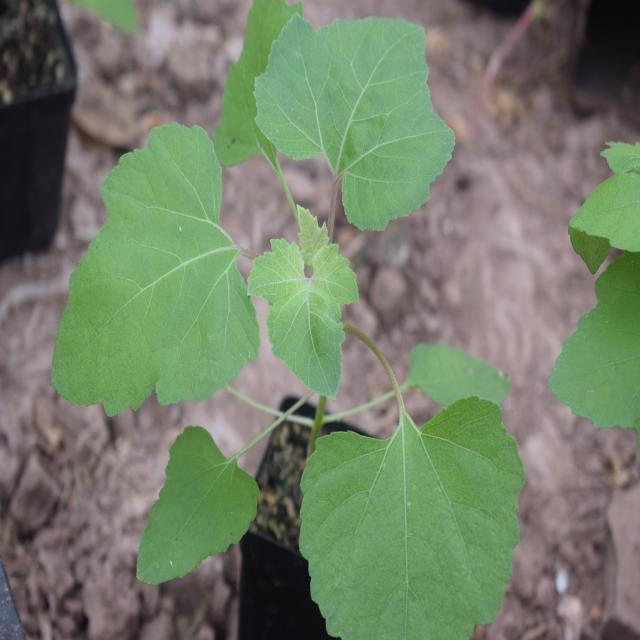cocklebur: (67, 35, 526, 632)
